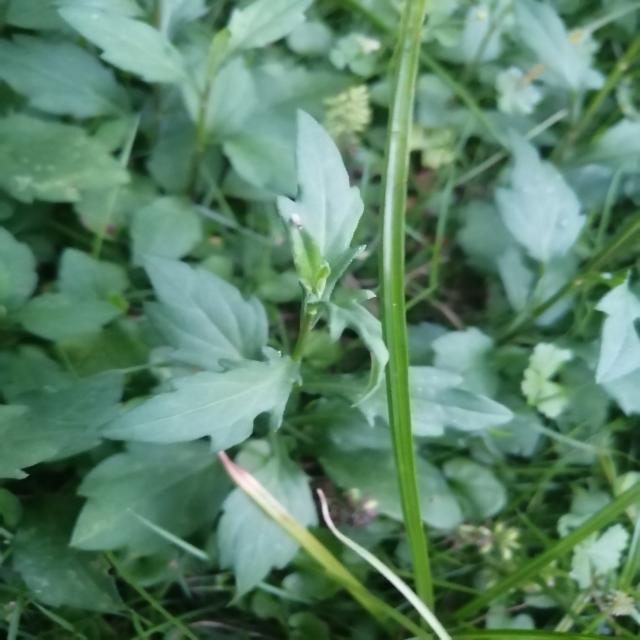Indian aster: (46, 136, 382, 512)
